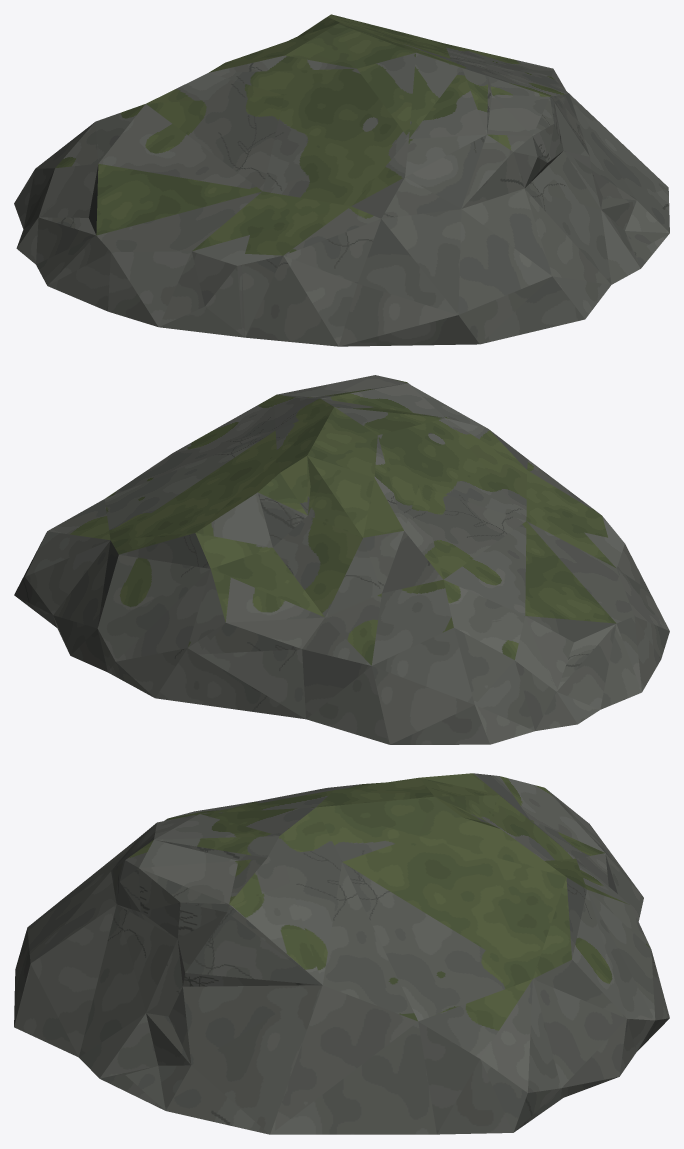
Rendered from redwood_slab5_v1.fbx.
3 views of the same model, one above another, from view 1: azimuth 30°, elevation 25°; view 2: azimuth 150°, elevation 25°; view 3: azimuth 270°, elevation 25° (orthographic). The views are drawn at different scales.
Parts seen in each view (by area): view 1: redwood_slab5_v1_s0_lod0, redwood_slab5_v1_s1_lod0, redwood_slab5_v1_s2_lod0; view 2: redwood_slab5_v1_s1_lod0, redwood_slab5_v1_s2_lod0, redwood_slab5_v1_s0_lod0; view 3: redwood_slab5_v1_s2_lod0, redwood_slab5_v1_s0_lod0, redwood_slab5_v1_s1_lod0.
Part boxes in pixels (x1,y1,x2,y2): redwood_slab5_v1_s0_lod0: (241,22,647,346); redwood_slab5_v1_s1_lod0: (14,27,318,337); redwood_slab5_v1_s2_lod0: (289,14,669,259); redwood_slab5_v1_s1_lod0: (192,472,669,744); redwood_slab5_v1_s2_lod0: (14,396,279,703); redwood_slab5_v1_s0_lod0: (273,375,622,540); redwood_slab5_v1_s2_lod0: (116,818,669,1134); redwood_slab5_v1_s0_lod0: (14,779,483,1086); redwood_slab5_v1_s1_lod0: (193,773,643,932).
Size of what is drawn, in the model's own units: 468 by 140 by 415.
